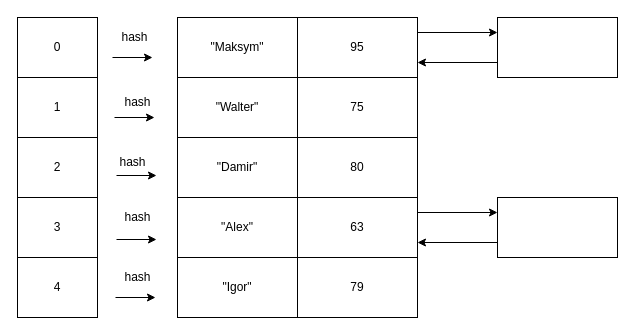
This 635x335 diagram has some shape labels left out. Here are the shapes that lost their labels. From the top down, the centre of each, then its label:
point 557,47: "Marina": 93
point 557,227: "Jhon": 64
